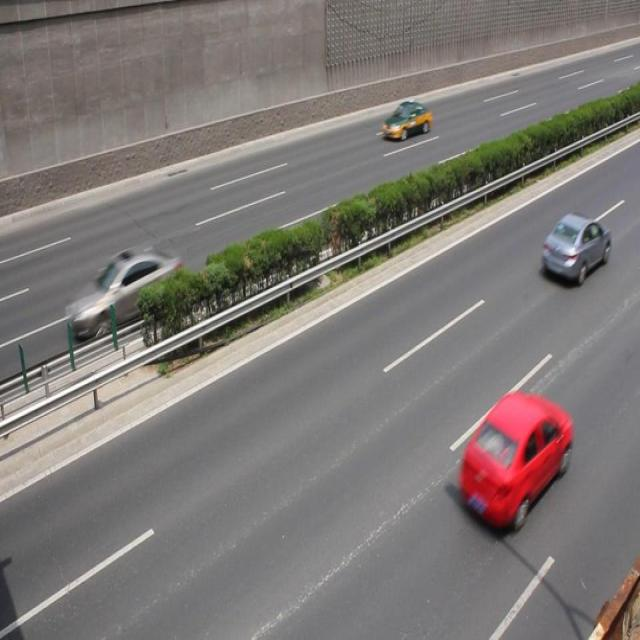car: (456, 393, 571, 531), (65, 244, 185, 345), (539, 212, 609, 287), (381, 101, 432, 142)
